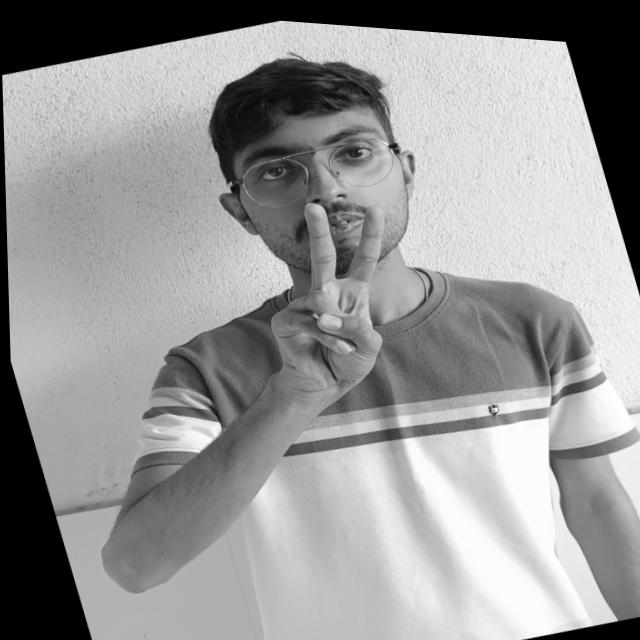Victory: (187, 156, 485, 451)
